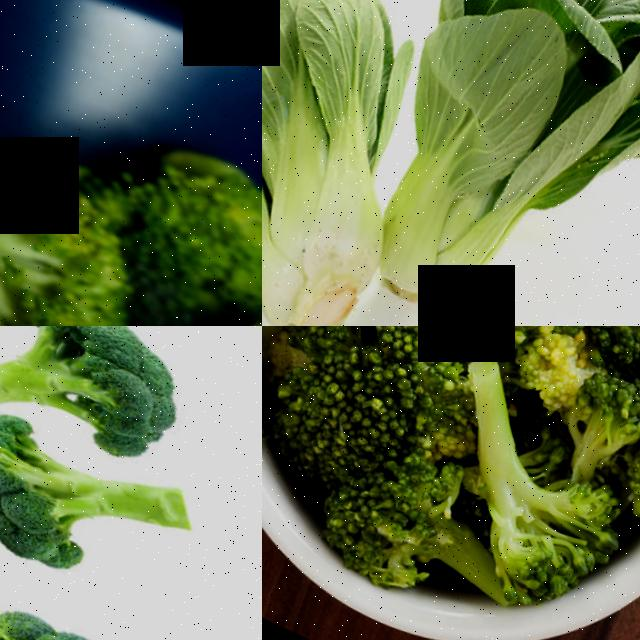bok choy: (373, 0, 640, 326), (262, 0, 437, 326)
broccoli: (0, 384, 245, 617), (262, 326, 468, 586), (434, 403, 635, 630), (95, 130, 262, 326), (0, 326, 224, 466), (0, 137, 165, 326), (555, 339, 640, 470)
